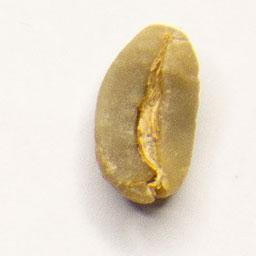longberry: (92, 20, 202, 209)
